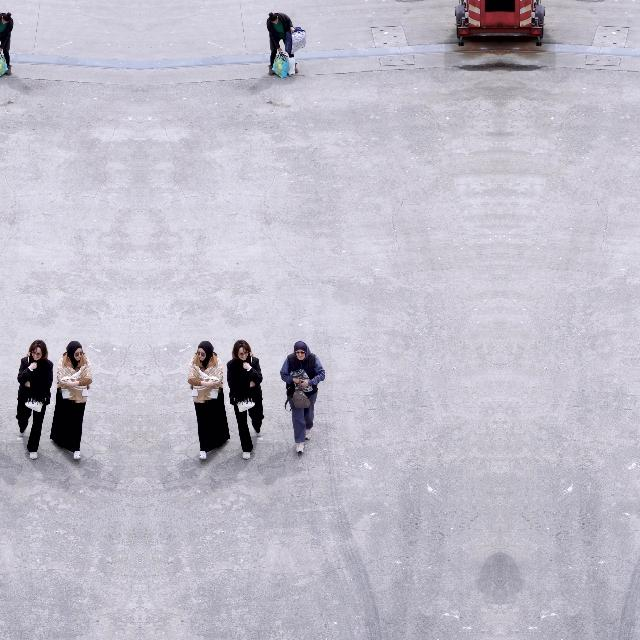person: (280, 341, 326, 454), (49, 340, 92, 460), (188, 340, 230, 460), (226, 340, 264, 460), (16, 340, 54, 460), (266, 12, 298, 76), (0, 12, 14, 76)
